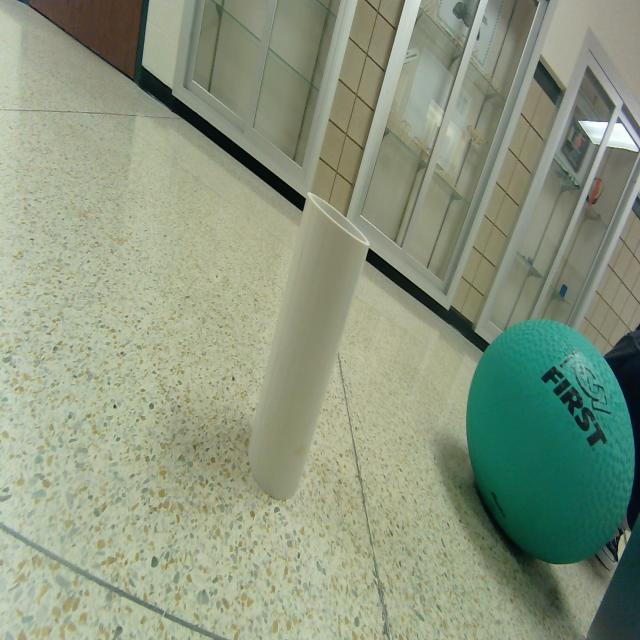algae: (466, 320, 640, 569)
coral: (249, 193, 369, 500)
